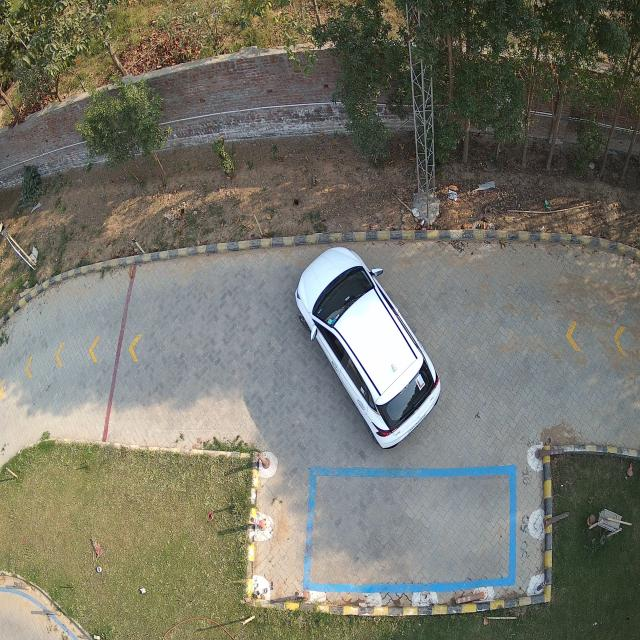car: (295, 247, 440, 449)
